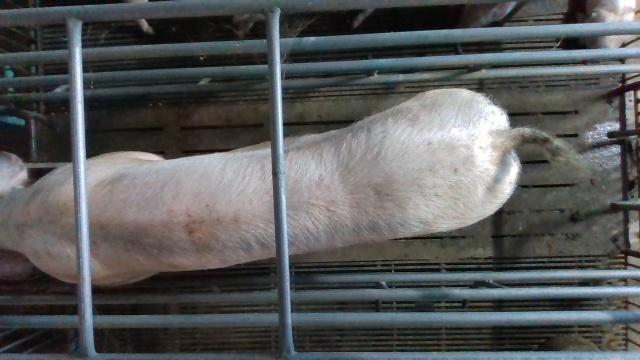piglet: (577, 0, 640, 65)
sow-stand-feed: (1, 87, 565, 286)
